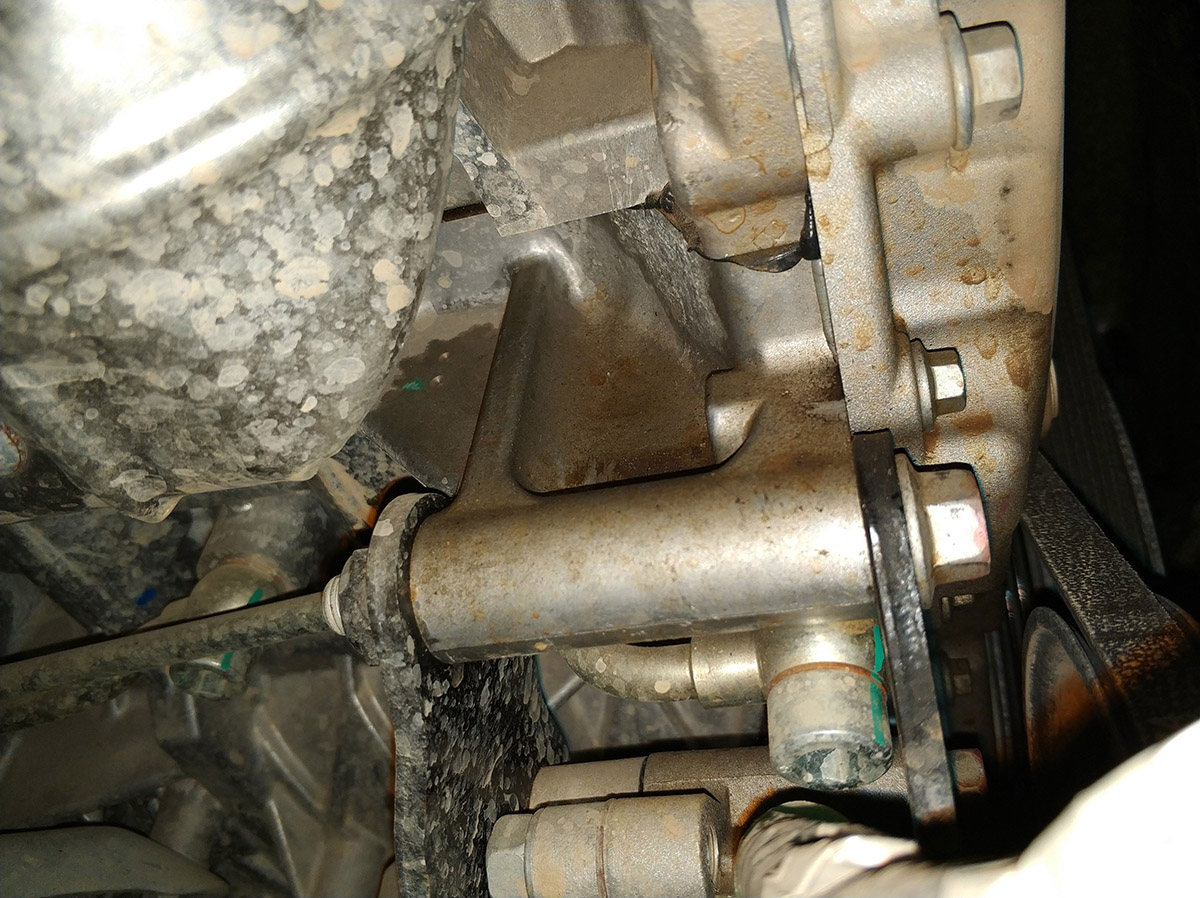oil: (372, 250, 717, 516)
